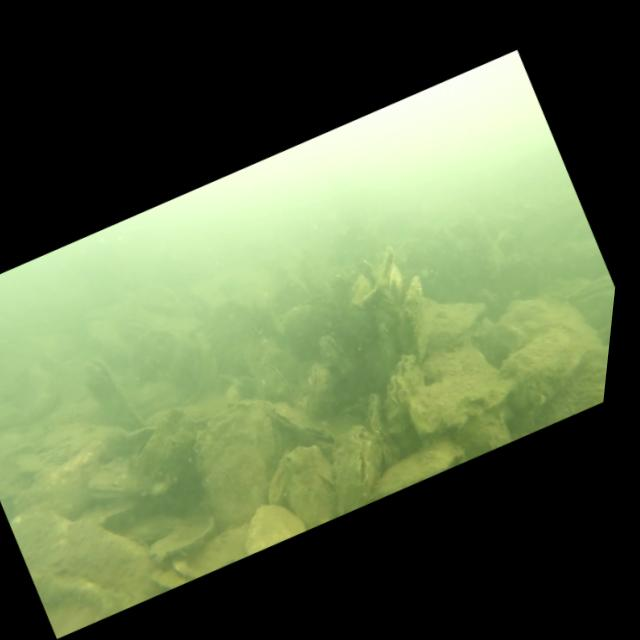Oyster-Closed: (301, 415, 405, 520), (115, 397, 215, 493), (357, 346, 449, 442), (258, 377, 347, 466), (349, 389, 412, 468), (250, 351, 301, 409), (294, 356, 342, 406)
Oyster-Indeterminate: (0, 462, 177, 640), (164, 382, 324, 540), (473, 266, 615, 397), (397, 347, 523, 454), (484, 317, 600, 421), (248, 434, 357, 543), (520, 324, 611, 430), (161, 514, 264, 592), (139, 507, 223, 570), (237, 487, 312, 555)
Oyster-Open: (365, 255, 457, 365), (68, 343, 159, 447), (415, 280, 501, 358), (74, 444, 155, 518), (309, 325, 365, 388)
